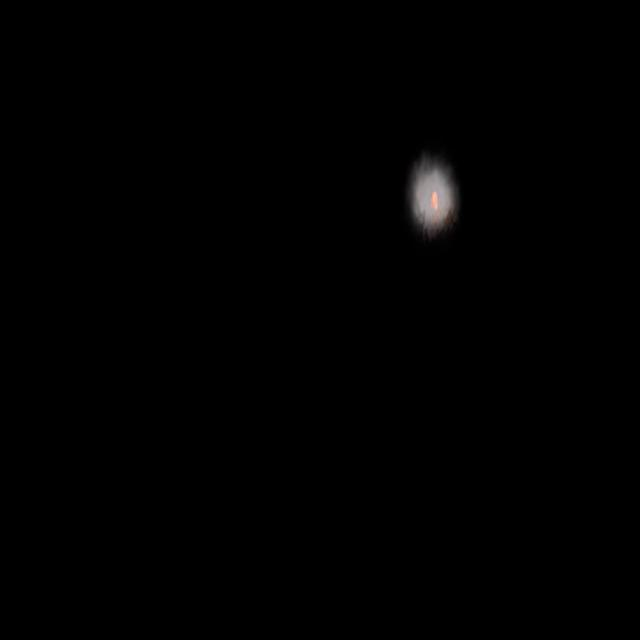fire: (430, 188, 438, 209)
smoke: (404, 150, 461, 240)
